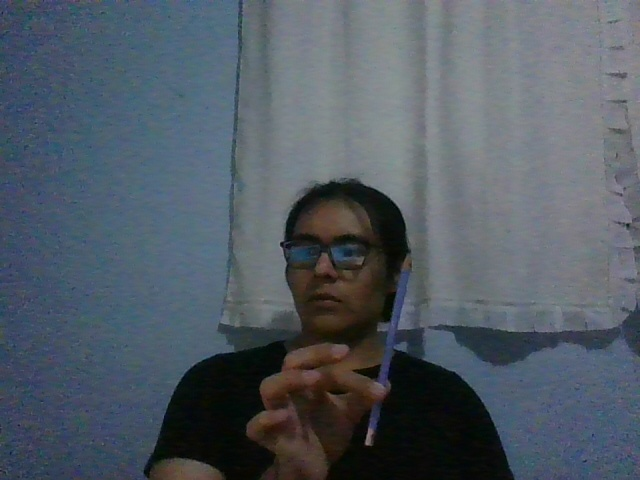lapiz: (364, 248, 413, 447)
